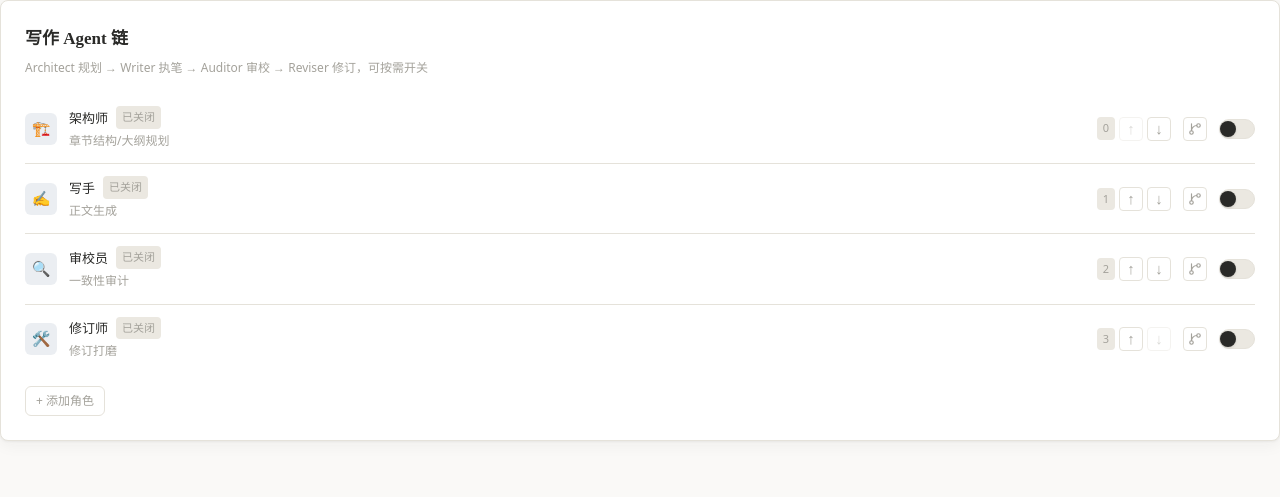
Test: AgentChainCard — v1.5 #484 添加角色 + 角色池（spec §5.7.2/§5.7.3） › 点添加 → 角色池显示未在链中角色（worldview/polisher 选项，testid 契约）
This screenshot has width=1280, height=497.
Expected: the text "架构师" is shown, [69, 107, 108, 129]
Click the button with test id "agent-chain-add-role": x=65, y=401 [25, 386, 105, 416]
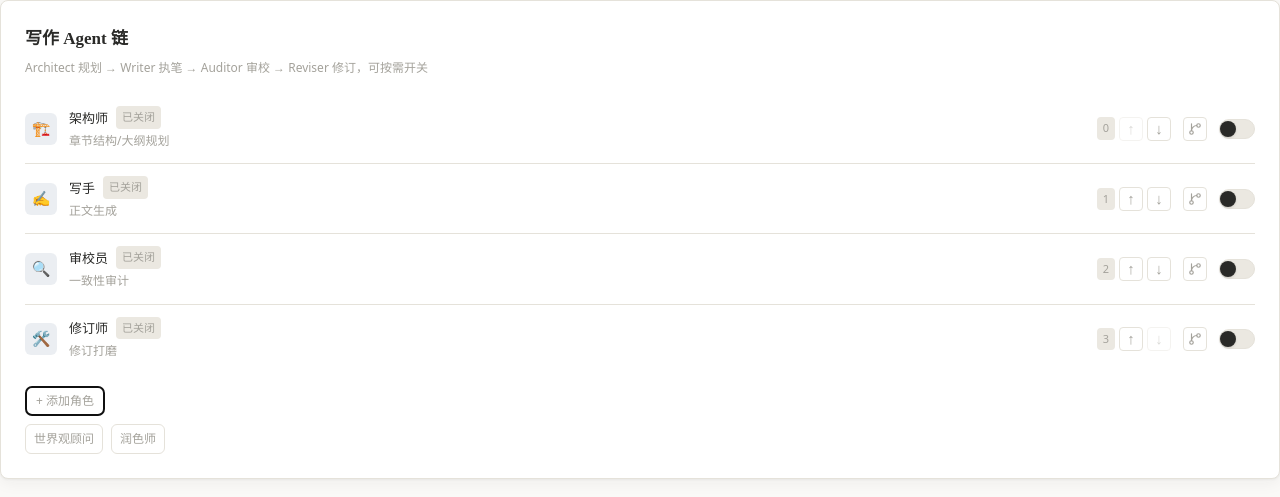
Expected: the button with test id "agent-chain-role-option-agent_worldview" is shown, [25, 424, 103, 454]
Expected: the button with test id "agent-chain-role-option-agent_polisher" is shown, [111, 424, 165, 454]
